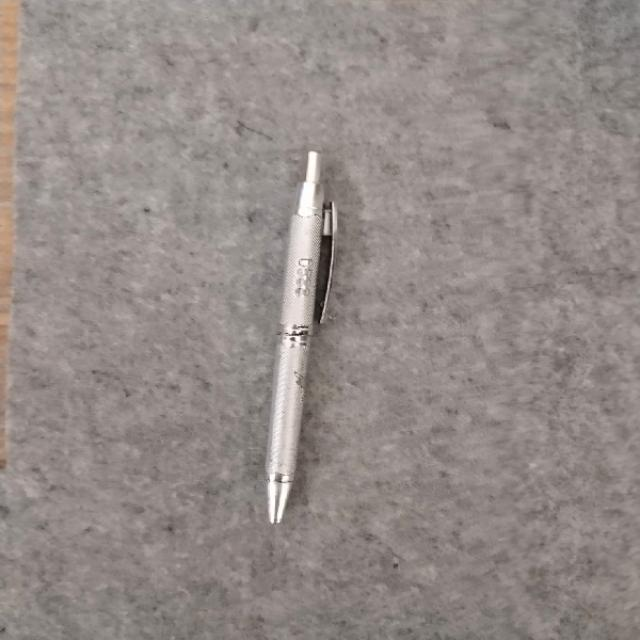signature pen: (266, 152, 337, 522)
